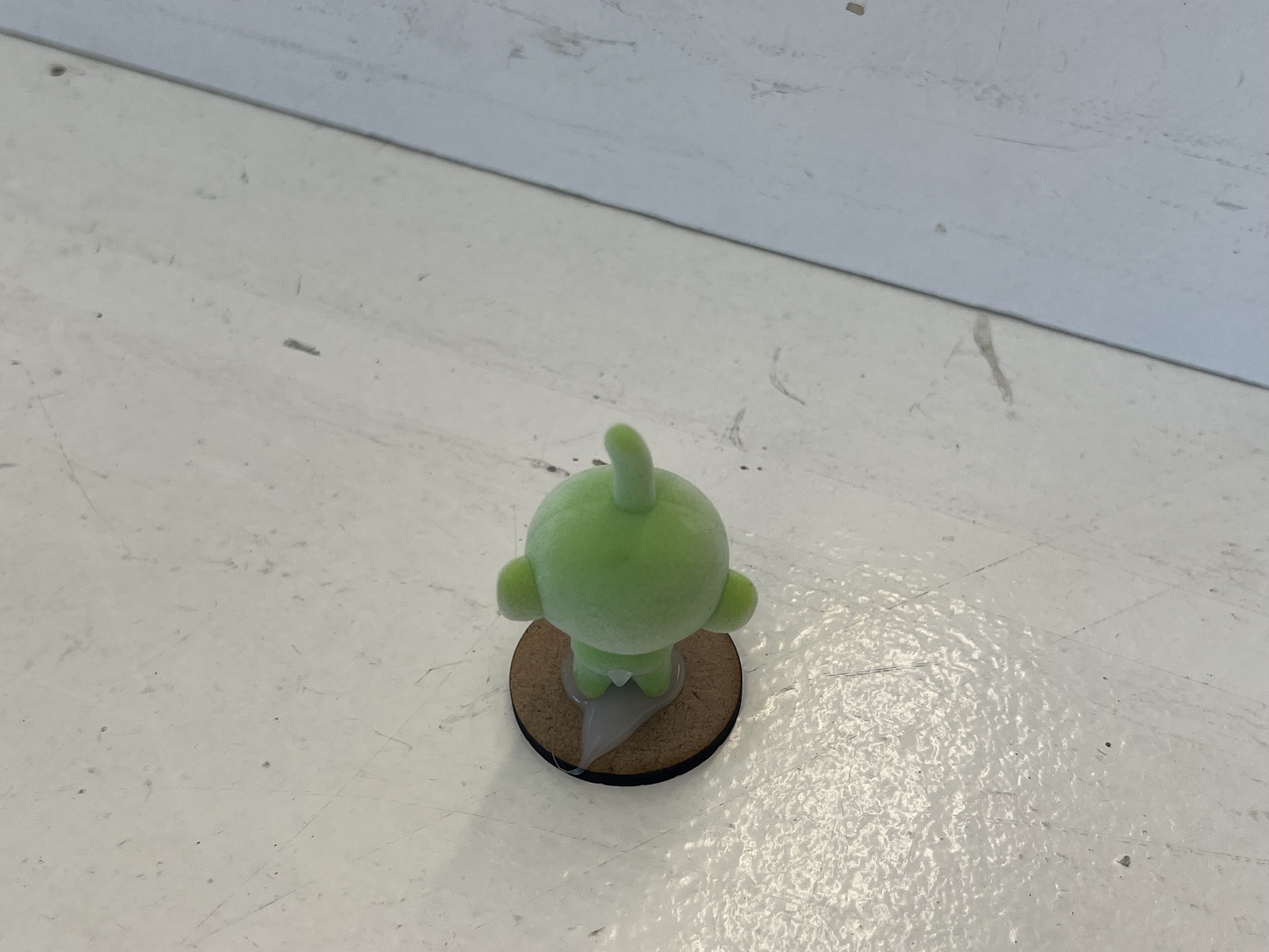teletubby: (496, 424, 757, 698)
